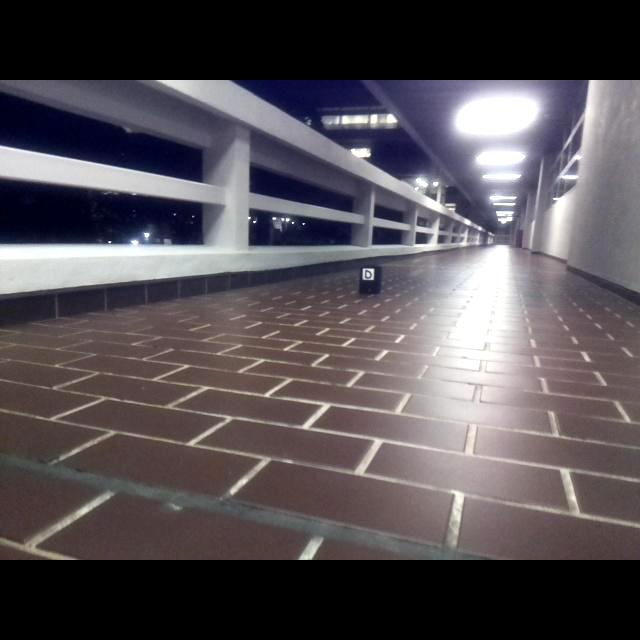D: (364, 269, 373, 279)
